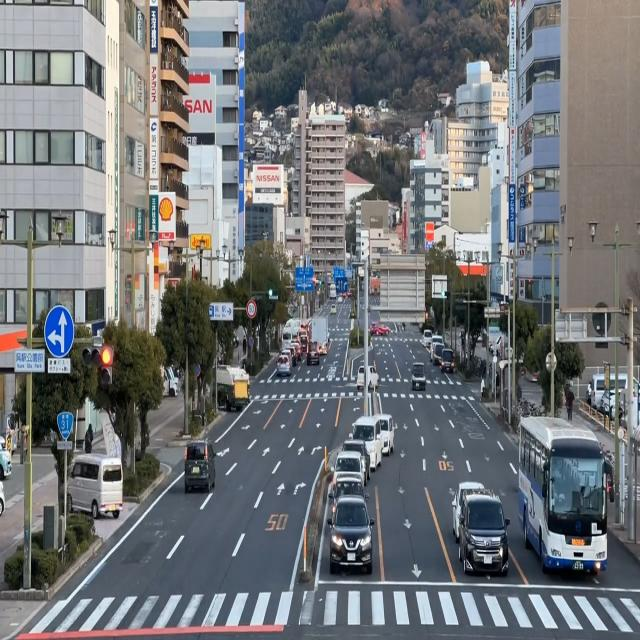Bus: (517, 414, 615, 578)
Car: (62, 452, 126, 519), (463, 494, 511, 576), (329, 494, 374, 569), (182, 434, 218, 496), (352, 420, 383, 464), (332, 448, 366, 484), (354, 360, 382, 396), (378, 410, 396, 454), (412, 360, 430, 394), (368, 319, 392, 340), (439, 346, 456, 374), (305, 338, 320, 368), (275, 353, 292, 378), (420, 326, 434, 349)
Truck: (212, 364, 250, 415), (310, 310, 330, 350)
